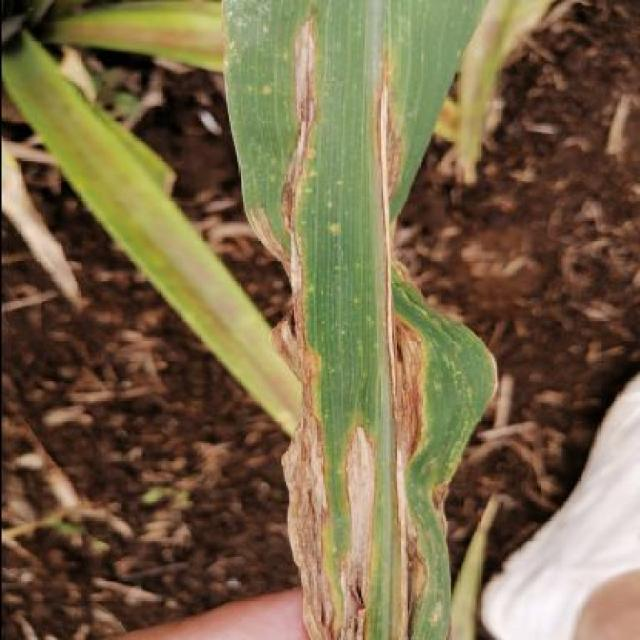Corn_Leaf_Blight: (220, 0, 495, 640)
